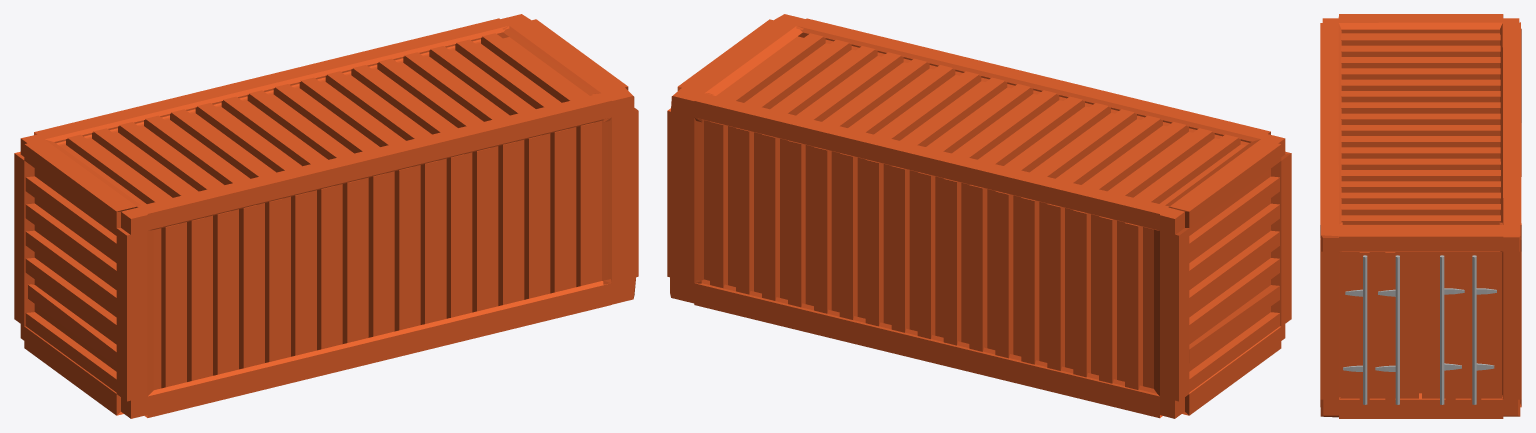
File: cargo.gltf
The picture shows the model from 3 angles, left to right: view 1: azimuth 30°, elevation 25°; view 2: azimuth 150°, elevation 25°; view 3: azimuth 270°, elevation 25°; orthographic projection. The views are drawn at different scales.
Visible parts, largest first — view 1: Plane.001, Plane.005, Plane, Plane.004; view 2: Plane.002, Plane.005, Plane, Plane.004; view 3: Plane.005, Plane, Cylinder.003, Cylinder.001, Cylinder.002, Cylinder, Plane.004.
Part boxes in pixels (<box>): Plane.001: <box>153,120,601,389</box>; Plane.005: <box>14,14,638,418</box>; Plane: <box>60,33,589,205</box>; Plane.004: <box>25,168,116,392</box>; Plane.002: <box>704,120,1153,389</box>; Plane.005: <box>667,14,1291,418</box>; Plane: <box>716,33,1245,205</box>; Plane.004: <box>1189,168,1279,392</box>; Plane.005: <box>1320,14,1521,418</box>; Plane: <box>1341,33,1500,224</box>; Cylinder.003: <box>1472,255,1496,404</box>; Cylinder.001: <box>1343,255,1367,404</box>; Cylinder.002: <box>1440,255,1464,404</box>; Cylinder: <box>1375,255,1399,404</box>; Plane.004: <box>1341,29,1499,33</box>.
Size of the model in its own units: 8.33 by 3.15 by 3.13.
